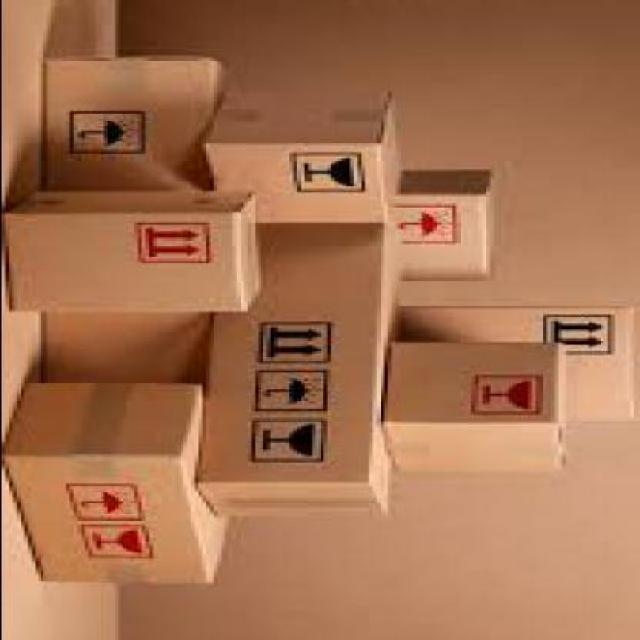box: (202, 220, 402, 520), (5, 386, 232, 588), (5, 196, 269, 316), (391, 306, 637, 423), (208, 92, 402, 225), (383, 343, 565, 479), (46, 58, 231, 191), (34, 313, 212, 390), (389, 172, 500, 283)
